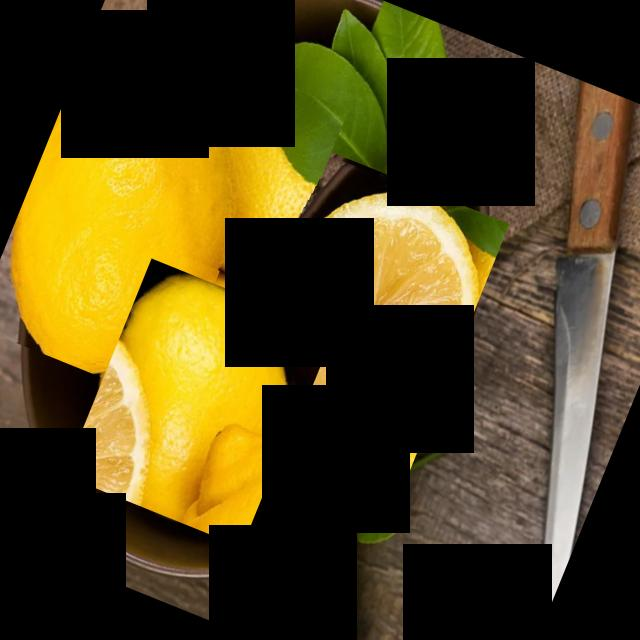lemon: (197, 145, 508, 516), (0, 49, 277, 403), (64, 258, 328, 547), (140, 55, 348, 292)
